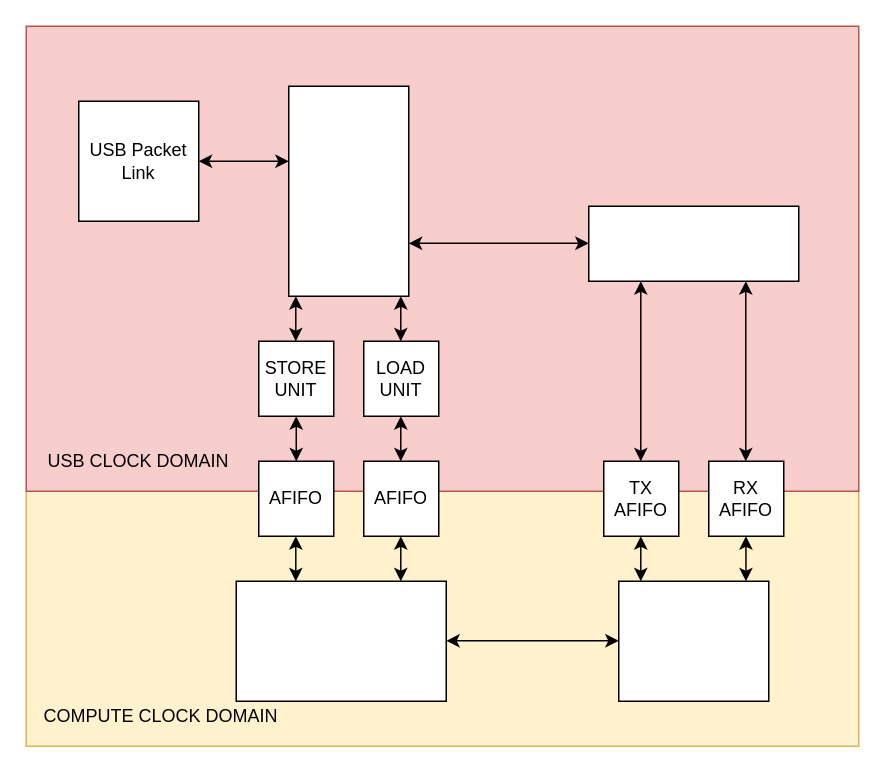
This 885x773 diagram has some shape labels left out. The shapes that lost their labels are listed below. From the top down, each one's centre as x and y in pixels, then its label:
At pixel 348 190: "Interface Controller".
At pixel 693 243: "COMM CONTROLLER".
At pixel 340 640: "MEMORY WITH ARBITER, BRAM OR SDRAM".
At pixel 693 640: "MAERI CORE".
